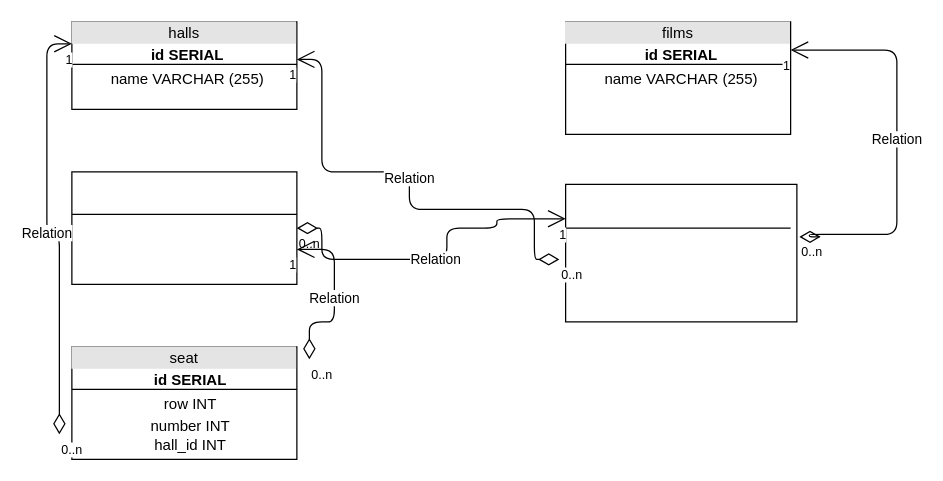
Image size: 943x481. Some labels were removed from this diagram. Each missing label, with the box of its shape:
sessions id SERIAL film_id INT hall_id INT time: (564, 183, 797, 322)
tickets id SERIAL session_id INT seat_id INT price NUMERIC: (71, 171, 297, 284)
